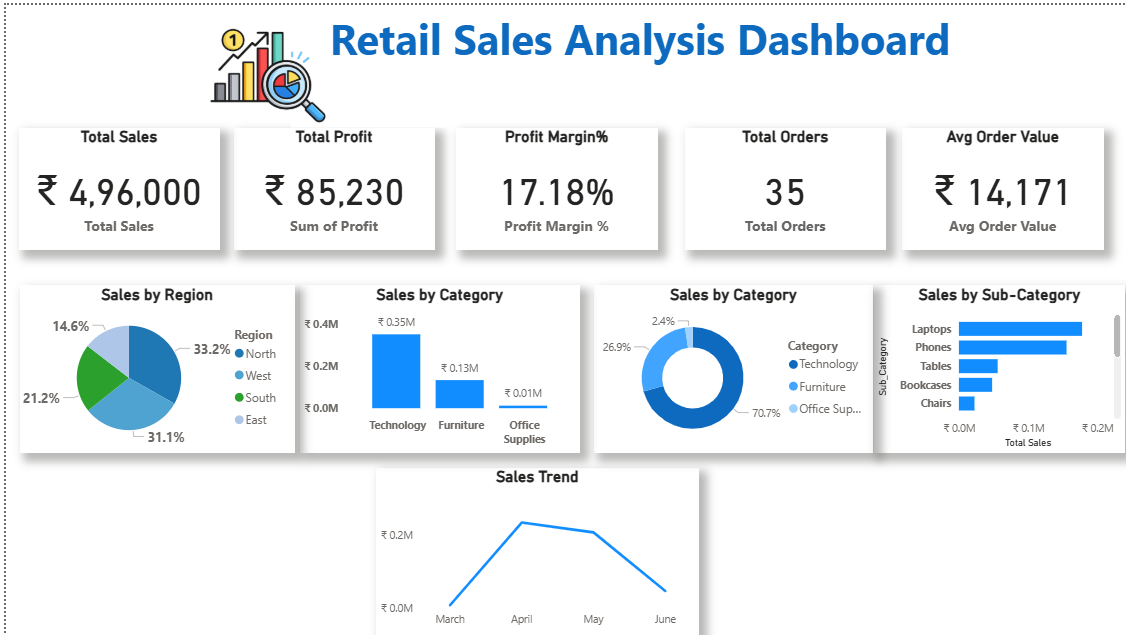

This screenshot's page, from the dashboard's own definition file:
{"tool":"powerbi","page":{"name":"Page 1","canvas":[1280,720],"ordinal":0},"visuals":[{"type":"card","title":"Total Sales","fields":{"Values":["Sheet1.Total Sales"]},"box":[14,140,230,140],"z":0},{"type":"card","title":"Total Profit","fields":{"Values":["Sum(Sheet1.Profit)"]},"box":[260,140,230,140],"z":1000},{"type":"textbox","box":[326,0,798,140],"z":2000},{"type":"image","box":[34,0,514,164],"z":3000},{"type":"card","title":"Profit Margin%","fields":{"Values":["Sheet1.Profit Margin %"]},"box":[514,140,230,140],"z":4000},{"type":"card","title":"Total Orders","fields":{"Values":["Sheet1.Total Orders"]},"box":[776,140,230,140],"z":5000},{"type":"card","title":"Avg Order Value","fields":{"Values":["Sheet1.Avg Order Value"]},"box":[1024,140,230,140],"z":6000},{"type":"pieChart","title":"Sales by Region","fields":{"Category":["Sheet1.Region"],"Y":["Sheet1.Total Sales"]},"box":[16,320,314,192],"z":7000},{"type":"clusteredColumnChart","title":"Sales by Category","fields":{"Category":["Sheet1.Category"],"Y":["Sheet1.Total Sales"]},"box":[336,320,320,192],"z":8000},{"type":"donutChart","title":"Sales by Category","fields":{"Category":["Sheet1.Category"],"Y":["Sheet1.Total Sales"]},"box":[672,320,320,192],"z":9000},{"type":"clusteredBarChart","title":"Sales by Sub-Category","fields":{"Category":["Sheet1.Sub_Category"],"Y":["Sheet1.Total Sales"]},"box":[992,320,288,192],"z":10000},{"type":"lineChart","title":"Sales Trend","fields":{"Y":["Sheet1.Total Sales"],"Category":["Sheet1.Order_Date.Variation.Date Hierarchy.Month"]},"box":[422.9,522.9,452.9,197.1],"z":11000}]}

Visuals, with their boxes in screenshot pixels (x1, y1, x2, y2), scaled from the page's 1280x720 canvas onto the 1126x635 screenshot:
"Total Sales" card: box=[12, 123, 215, 247]
"Total Profit" card: box=[229, 123, 431, 247]
textbox: box=[287, 0, 989, 123]
image: box=[30, 0, 482, 145]
"Profit Margin%" card: box=[452, 123, 654, 247]
"Total Orders" card: box=[683, 123, 885, 247]
"Avg Order Value" card: box=[901, 123, 1103, 247]
"Sales by Region" pieChart: box=[14, 282, 290, 452]
"Sales by Category" clusteredColumnChart: box=[296, 282, 577, 452]
"Sales by Category" donutChart: box=[591, 282, 873, 452]
"Sales by Sub-Category" clusteredBarChart: box=[873, 282, 1125, 452]
"Sales Trend" lineChart: box=[372, 461, 770, 634]
